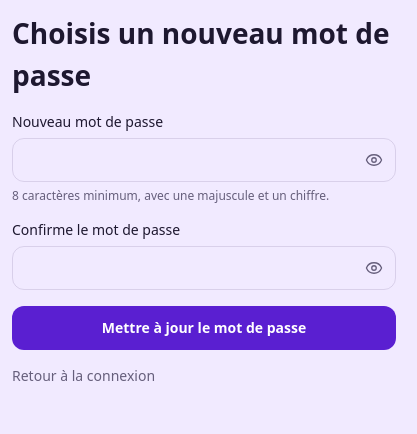
it: ResetPasswordForm — nouveau mot de passe depuis le lien de réinitialisation (LOT 1) › refuse quand les deux mots de passe ne correspondent pas
This screenshot has width=417, height=434.
Type "Secret123" into the password field labelled "Nouveau mot de passe" at (204, 160), box [12, 138, 396, 182]
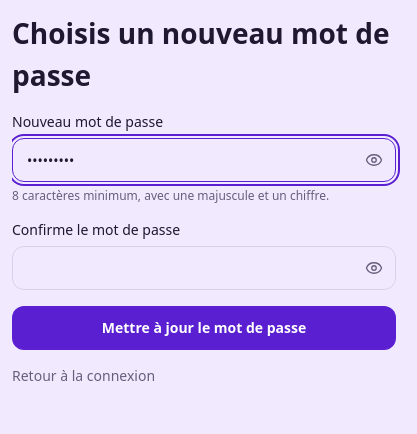
Type "Secret124" into the password field labelled "Confirme le mot de passe" at (204, 268), box [12, 246, 396, 290]
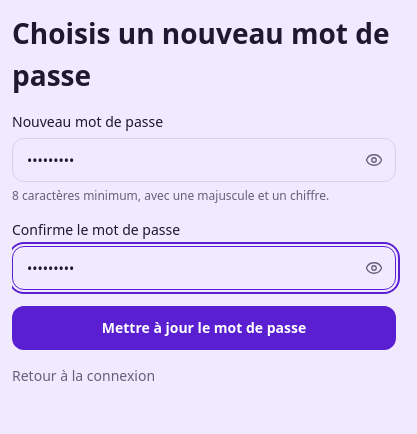
Click the button "Mettre à jour le mot de passe" at (204, 328), box [12, 306, 396, 350]
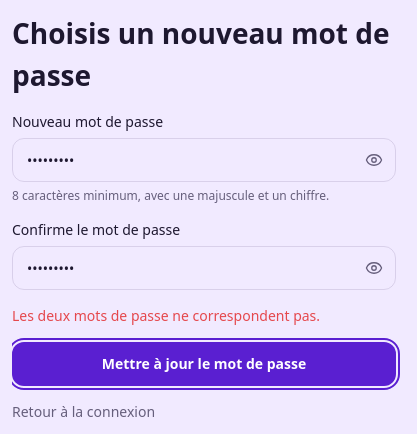
Expected: the text "Les deux mots de passe ne correspondent pas." is shown, [12, 306, 320, 325]
